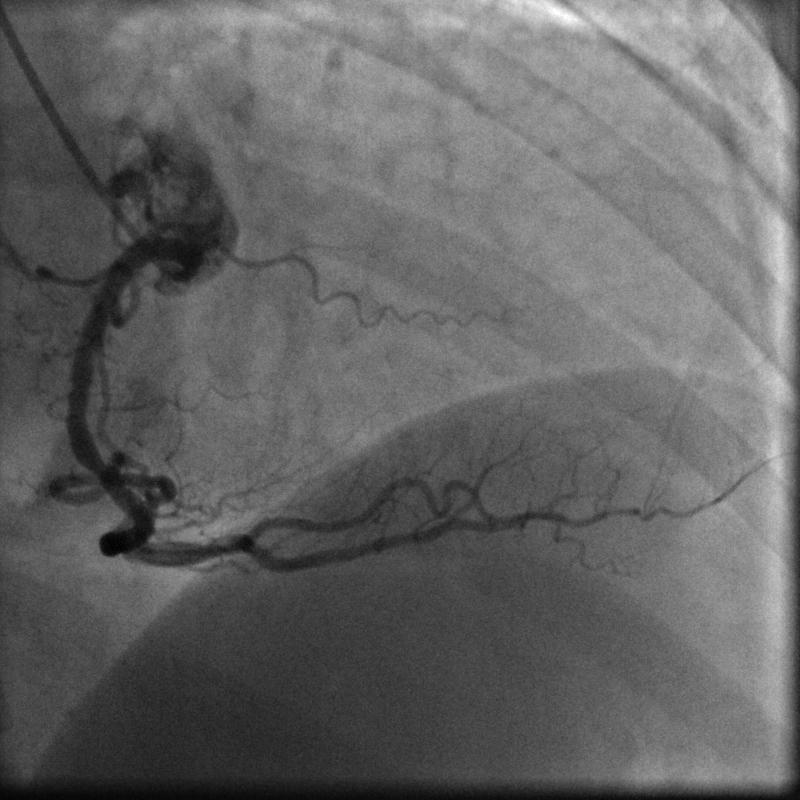Stenosis: (78, 457, 134, 490)
